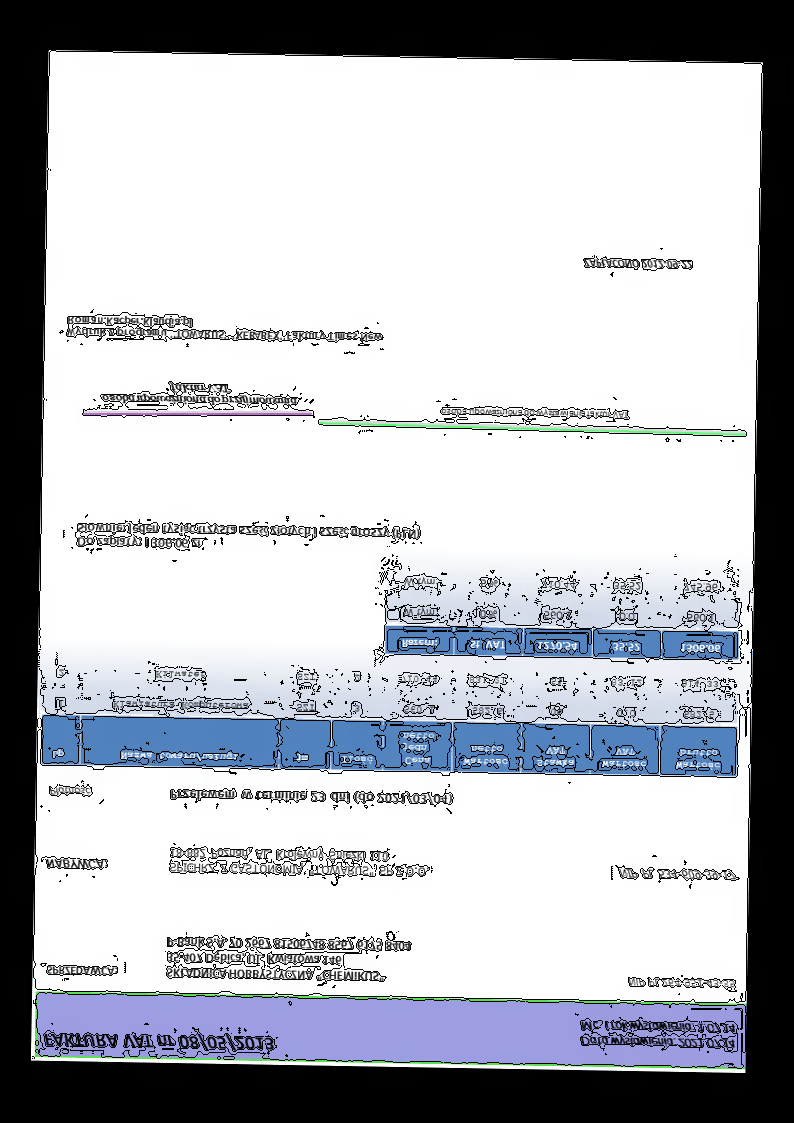Table: (39, 651, 739, 778), (384, 564, 742, 662)
TextBox: (164, 934, 414, 985), (75, 519, 422, 554), (64, 312, 384, 345), (166, 846, 432, 879), (41, 1028, 276, 1053), (169, 787, 454, 807), (101, 381, 299, 409), (578, 1017, 737, 1051), (439, 404, 629, 421), (581, 255, 693, 273), (617, 866, 736, 882), (626, 976, 735, 991), (44, 963, 120, 978), (44, 856, 109, 872), (47, 784, 93, 799)
